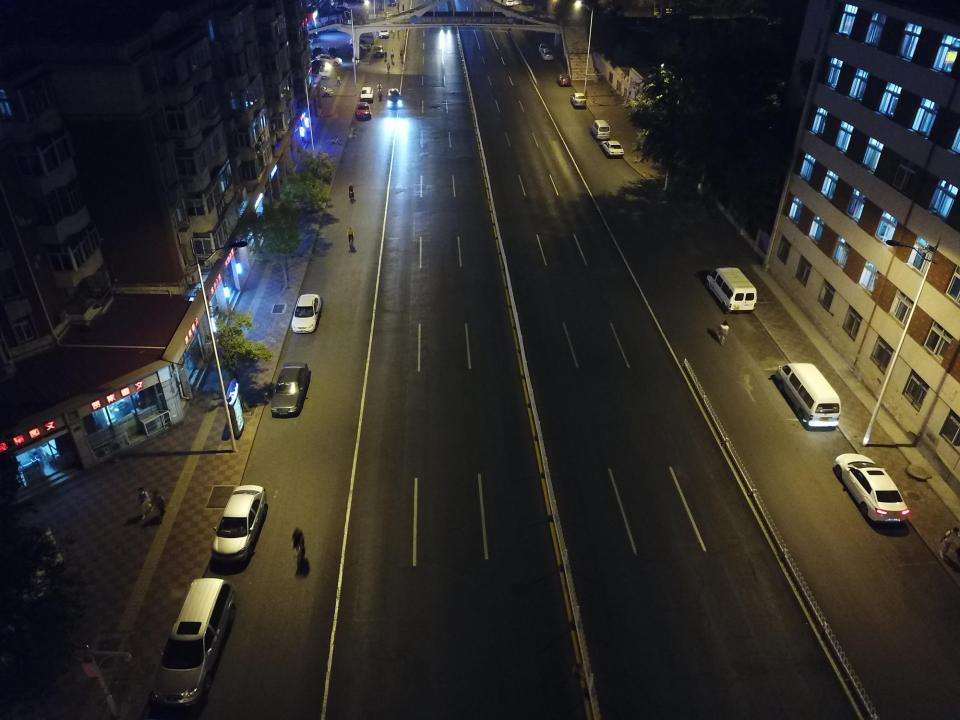car: (834, 452, 908, 523), (210, 484, 266, 562), (271, 362, 309, 415), (291, 294, 321, 333), (601, 140, 624, 158), (304, 84, 333, 98), (386, 88, 403, 107), (316, 54, 342, 66), (356, 102, 372, 118), (360, 87, 374, 104), (557, 74, 571, 87), (318, 66, 330, 79), (311, 46, 325, 57), (539, 44, 548, 52), (506, 0, 514, 7)
van: (154, 578, 236, 706), (775, 362, 841, 427), (706, 267, 757, 313), (590, 120, 610, 140), (349, 36, 371, 52), (326, 47, 344, 65), (304, 59, 328, 71), (570, 93, 586, 106), (540, 49, 554, 60), (378, 26, 390, 38), (373, 45, 384, 57)
